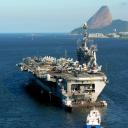Portanaves: (15, 21, 111, 110)
